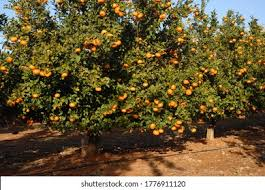orange: (170, 100, 176, 106)
